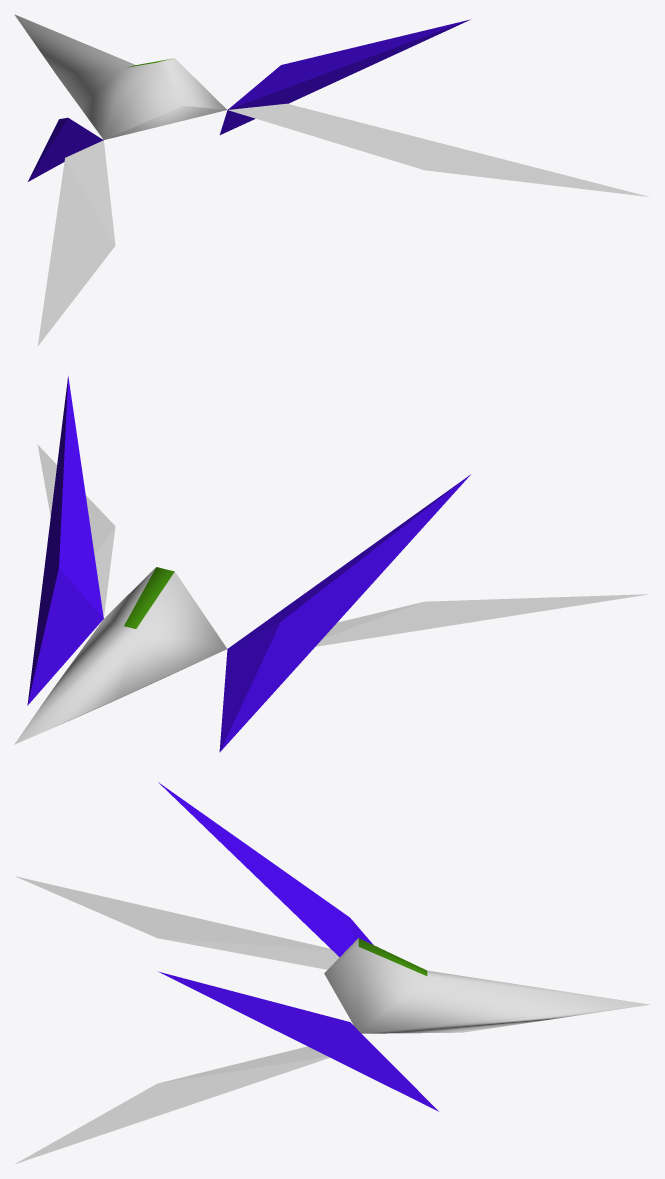
The model's file is Arwing.fbx.
3 views of the same model, one above another, from view 1: azimuth 30°, elevation 25°; view 2: azimuth 150°, elevation 25°; view 3: azimuth 270°, elevation 25° (orthographic). The views are drawn at different scales.
Visible parts, largest first — view 1: bArwing_old:Mesh; view 2: bArwing_old:Mesh; view 3: bArwing_old:Mesh.
Boxes of the visible parts, x1,y1,x2,y2 form: bArwing_old:Mesh: (14, 14, 648, 346); bArwing_old:Mesh: (14, 376, 650, 752); bArwing_old:Mesh: (15, 782, 649, 1163).
Bounding box in the file's own units: 9.92 × 3.06 × 9.26.
